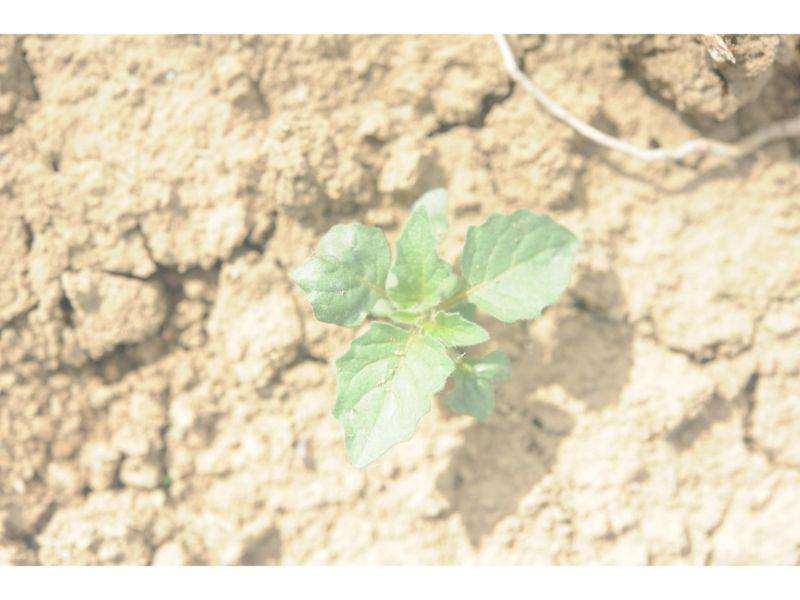nightshade: (296, 187, 581, 472)
